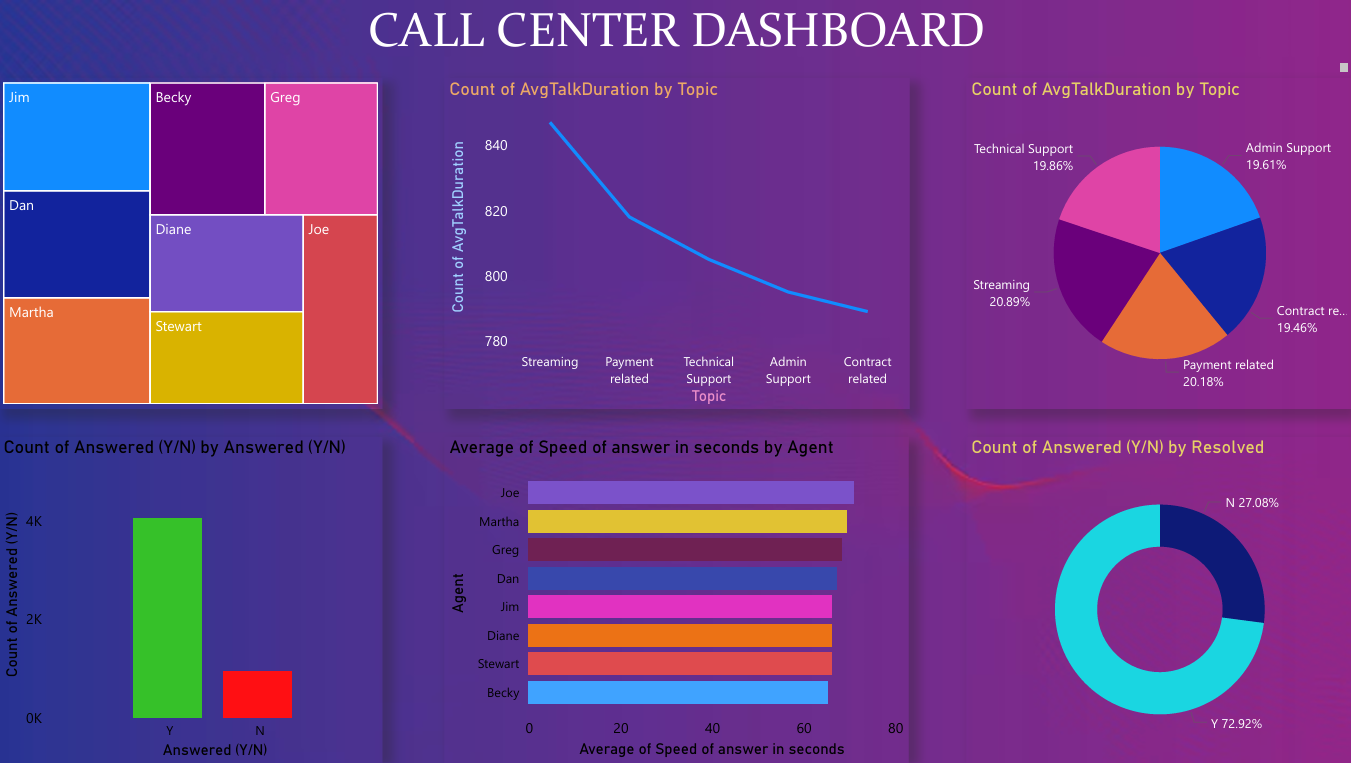

Layout of this report page (visuals, bound fields, positions):
{"tool":"powerbi","page":{"name":"Page 1","canvas":[1280,720],"ordinal":0},"visuals":[{"type":"textbox","title":"CALL CENTER DASHBOARD","box":[0,0,1280.6,73],"z":0},{"type":"treemap","fields":{"Group":["01 Call-Center-Dataset.Agent"],"Values":["01 Call-Center-Dataset.Satisfaction rating"]},"box":[0,73.2,362.8,312.4],"z":1000},{"type":"columnChart","fields":{"Category":["01 Call-Center-Dataset.Answered (Y/N)"],"Y":["01 Call-Center-Dataset.Answered (Y/N)"]},"box":[0,411.7,362.8,309.2],"z":2000},{"type":"lineChart","fields":{"Category":["01 Call-Center-Dataset.Topic"],"Y":["01 Call-Center-Dataset.AvgTalkDuration"]},"box":[421.4,73.2,439.3,312.4],"z":3000},{"type":"barChart","fields":{"Y":["01 Call-Center-Dataset.Speed of answer in seconds"],"Category":["01 Call-Center-Dataset.Agent"]},"box":[421,412,439,308],"z":4000},{"type":"pieChart","fields":{"Series":["01 Call-Center-Dataset.Topic"],"Y":["01 Call-Center-Dataset.AvgTalkDuration"]},"box":[914.4,73.2,366.1,312.4],"z":5000},{"type":"donutChart","fields":{"Y":["01 Call-Center-Dataset.Answered (Y/N)"],"Series":["01 Call-Center-Dataset.Resolved"]},"box":[914,412,366,308],"z":6000}]}

Visuals, with their boxes in screenshot pixels (x1, y1, x2, y2), scaled from the page's 1280x720 canvas onto the 1351x765 screenshot:
"CALL CENTER DASHBOARD" textbox: 0 0 1350 78
treemap - 01 Call-Center-Dataset.Agent x 01 Call-Center-Dataset.Satisfaction rating: 0 78 383 410
columnChart - 01 Call-Center-Dataset.Answered (Y/N) x 01 Call-Center-Dataset.Answered (Y/N): 0 437 383 764
lineChart - 01 Call-Center-Dataset.Topic x 01 Call-Center-Dataset.AvgTalkDuration: 445 78 908 410
barChart - 01 Call-Center-Dataset.Speed of answer in seconds x 01 Call-Center-Dataset.Agent: 444 438 908 764
pieChart - 01 Call-Center-Dataset.Topic x 01 Call-Center-Dataset.AvgTalkDuration: 965 78 1350 410
donutChart - 01 Call-Center-Dataset.Answered (Y/N) x 01 Call-Center-Dataset.Resolved: 965 438 1350 764
